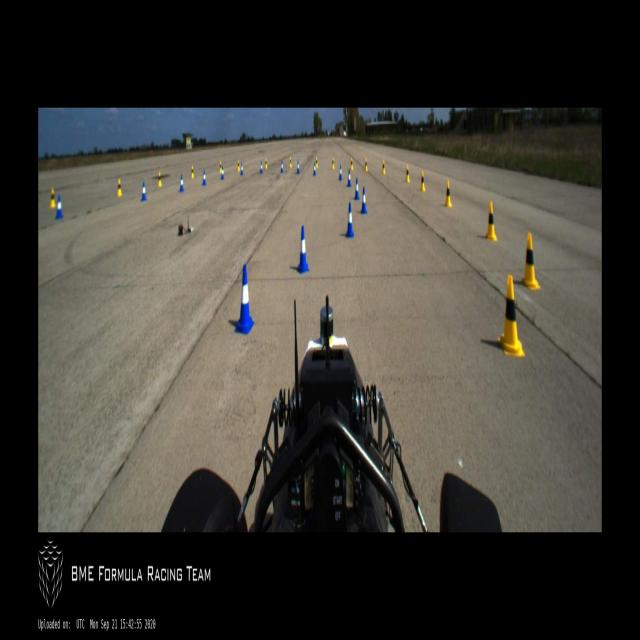blue_cone: (235, 264, 254, 334), (297, 227, 309, 272), (346, 202, 354, 237), (361, 187, 367, 213), (56, 197, 62, 218), (355, 178, 359, 200), (142, 182, 146, 201), (347, 169, 351, 187), (180, 176, 184, 192), (202, 171, 206, 185), (339, 165, 342, 180), (221, 166, 224, 179), (313, 163, 316, 175), (297, 161, 299, 174), (281, 161, 283, 173), (241, 163, 243, 175), (260, 162, 262, 173)
yellow_cone: (498, 276, 524, 356), (521, 233, 539, 289), (486, 202, 496, 240), (445, 180, 452, 207), (420, 170, 425, 192), (50, 188, 55, 207), (406, 165, 410, 182), (118, 179, 121, 196), (382, 160, 385, 175), (158, 172, 161, 186), (191, 166, 194, 179), (365, 158, 367, 172), (316, 157, 318, 169), (332, 157, 334, 169), (351, 158, 353, 170), (220, 162, 222, 173), (238, 160, 240, 171), (290, 157, 292, 168), (265, 158, 267, 168)
